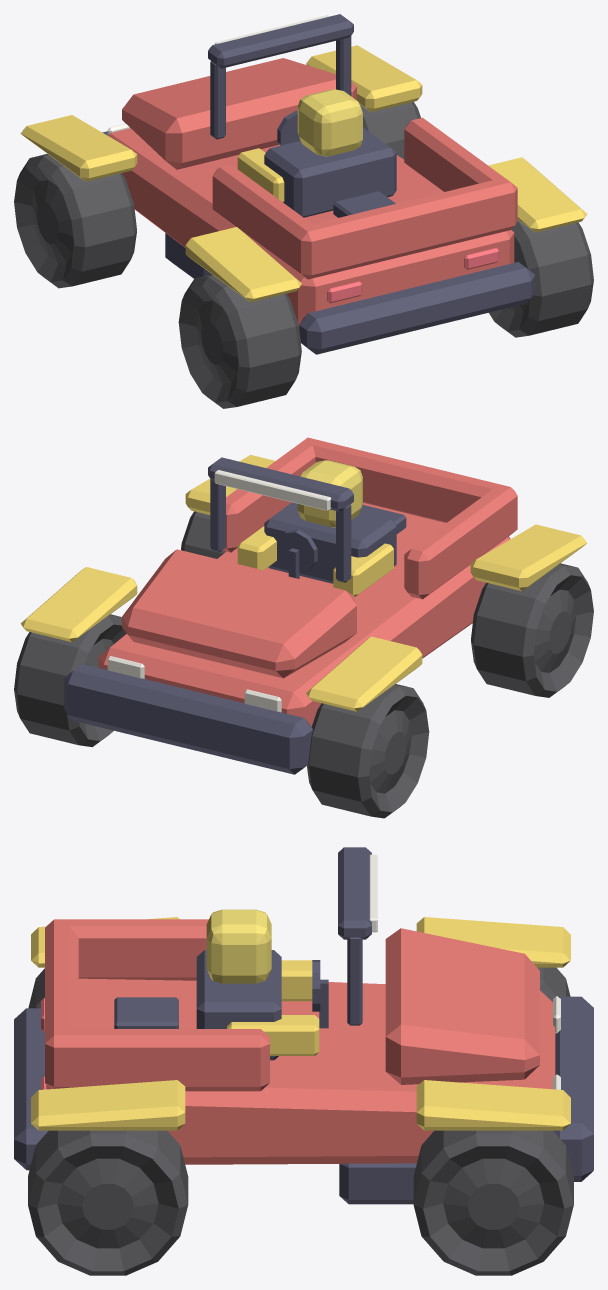
Rendered from Kart_Truck.fbx.
The picture shows the model from 3 angles, top to bottom: view 1: azimuth 30°, elevation 25°; view 2: azimuth 150°, elevation 25°; view 3: azimuth 270°, elevation 25°; orthographic projection. The views are drawn at different scales.
Parts seen in each view (by area): view 1: Body, Trim, Accent, WheelRL, WheelFL, WheelRR, Head, WheelFR, Driver, Taillights, WeaponMount; view 2: Body, Trim, Accent, WheelRL, WheelFL, WheelFR, Headlights, Driver, Head, WheelRR; view 3: Body, Trim, WheelRR, WheelFR, Accent, Head, Driver, WeaponMount, Headlights, WheelFL.
Boxes of the visible parts, left/top/right/bottom form: Body: left=108, top=58, right=517, bottom=327; Trim: left=102, top=14, right=535, bottom=354; Accent: left=20, top=45, right=586, bottom=302; WheelRL: left=178, top=274, right=301, bottom=408; WheelFL: left=14, top=154, right=136, bottom=288; WheelRR: left=489, top=220, right=593, bottom=337; Head: left=297, top=89, right=362, bottom=156; WheelFR: left=359, top=102, right=420, bottom=159; Driver: left=237, top=148, right=284, bottom=202; Taillights: left=327, top=248, right=499, bottom=303; WeaponMount: left=333, top=191, right=395, bottom=217; Body: left=98, top=437, right=517, bottom=726; Trim: left=64, top=457, right=396, bottom=774; Accent: left=21, top=455, right=586, bottom=711; WheelRL: left=471, top=563, right=593, bottom=697; WheelFL: left=307, top=684, right=429, bottom=818; WheelFR: left=14, top=614, right=126, bottom=747; Headlights: left=107, top=470, right=331, bottom=712; Driver: left=237, top=526, right=393, bottom=596; Head: left=297, top=460, right=362, bottom=527; WheelRR: left=181, top=511, right=225, bottom=558; Body: left=45, top=919, right=555, bottom=1164; Trim: left=14, top=847, right=593, bottom=1204; WheelRR: left=28, top=1130, right=188, bottom=1275; WheelFR: left=413, top=1130, right=573, bottom=1275; Accent: left=31, top=917, right=570, bottom=1130; Head: left=206, top=909, right=271, bottom=983; Driver: left=227, top=960, right=319, bottom=1055; WeaponMount: left=114, top=997, right=178, bottom=1028; Headlights: left=369, top=854, right=560, bottom=1089; WheelFL: left=537, top=967, right=570, bottom=1001.
Bounding box in the file's own units: 311 × 211 × 376.
